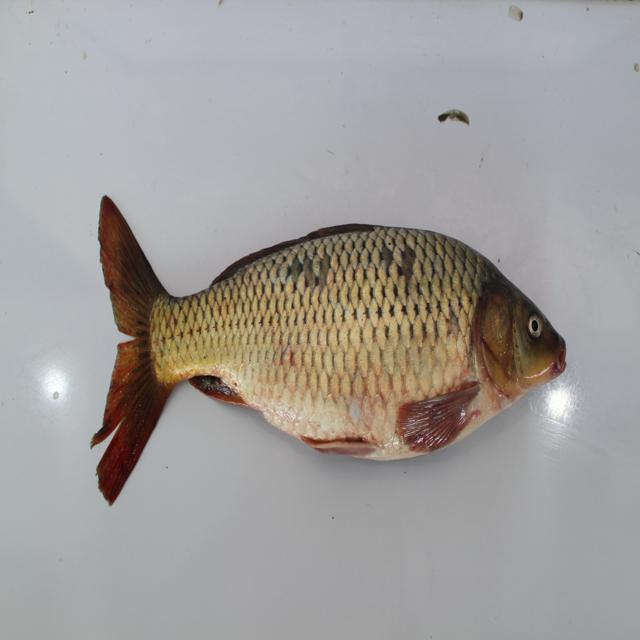CommonCarp: (75, 183, 584, 511)
